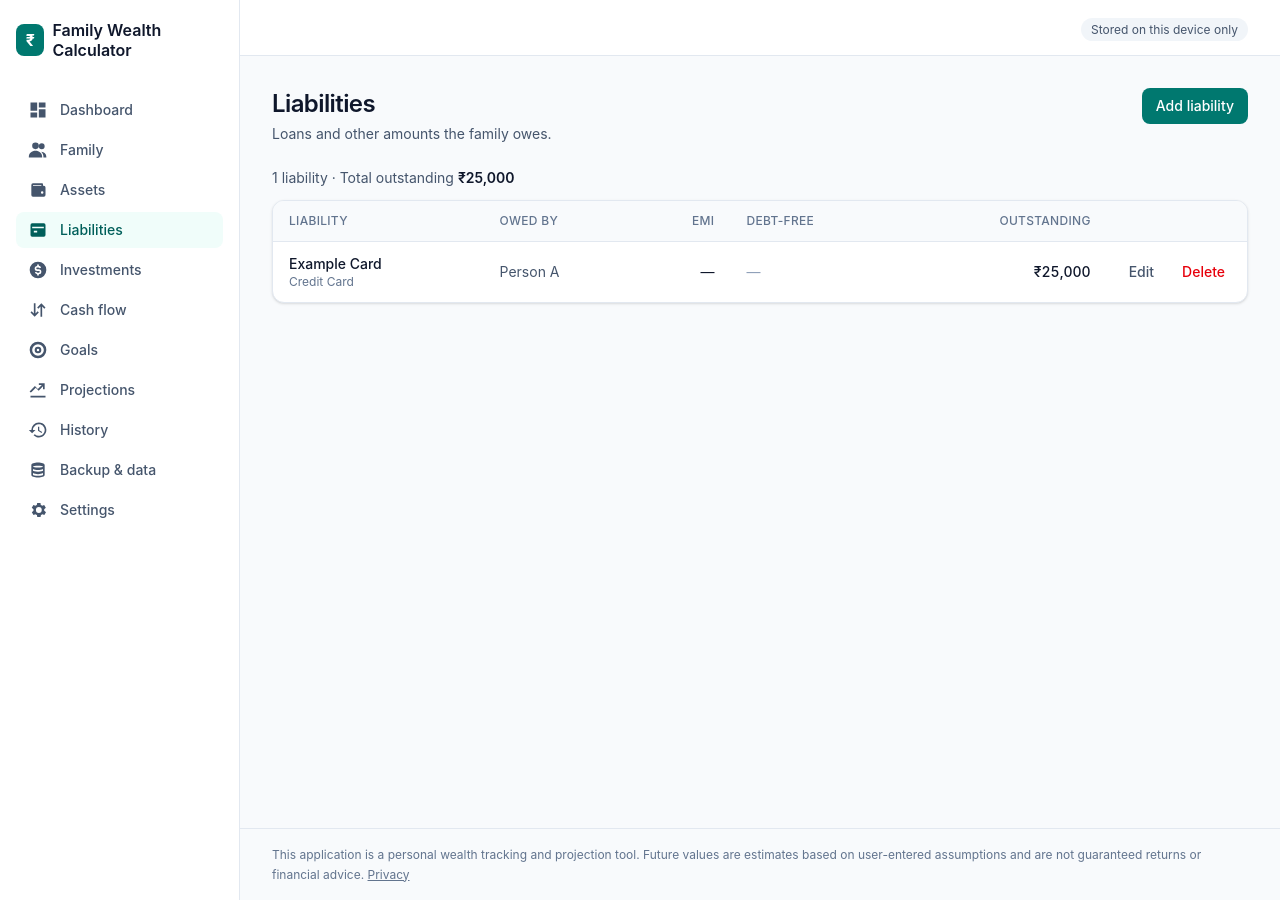
Test: Liabilities page › keeps simple liabilities without loan terms, flat in projections
Click the button "Example Card": click(335, 264) [289,254,382,274]
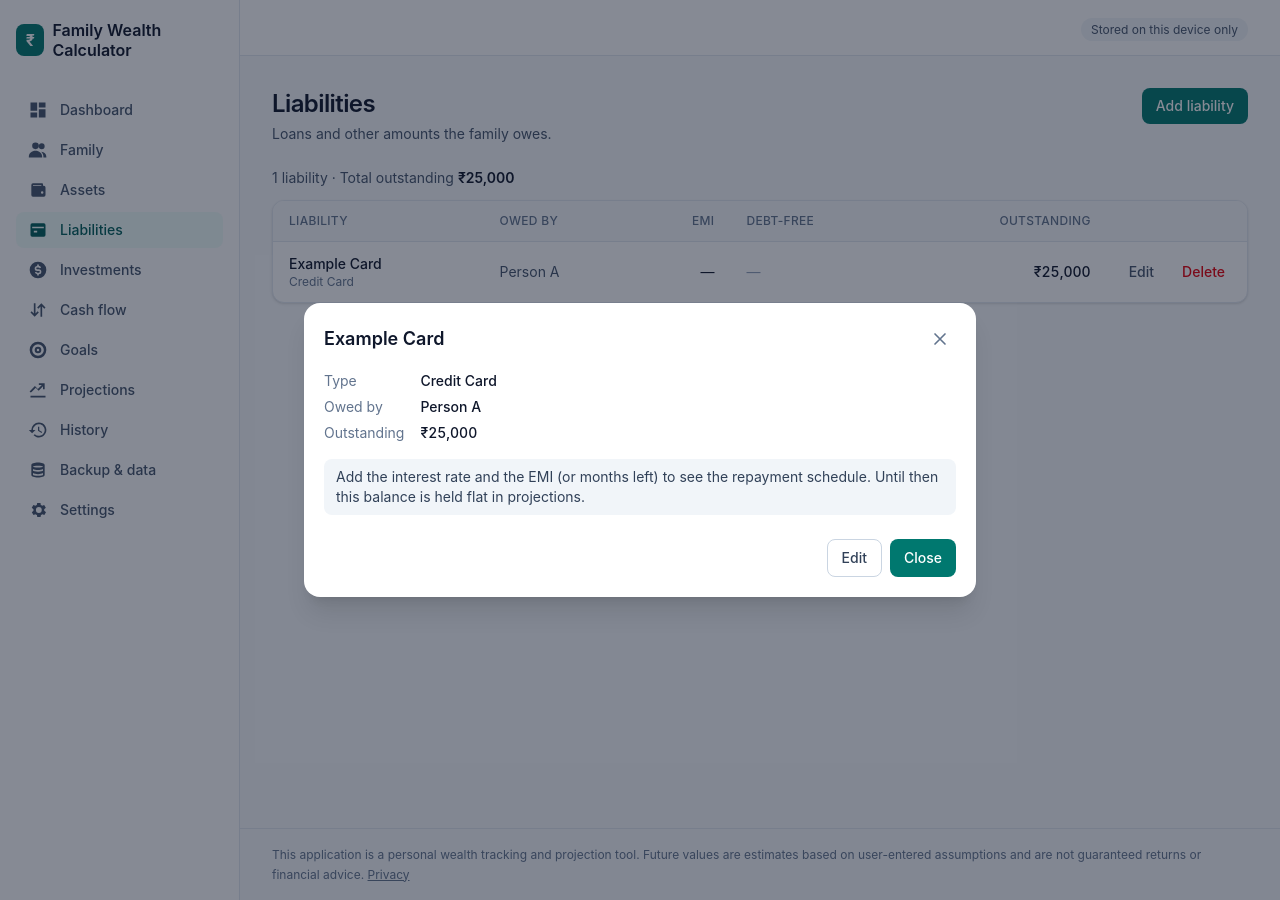
Expected: the dialog shows "Add the interest rate and the EMI", [336,468,871,485]
